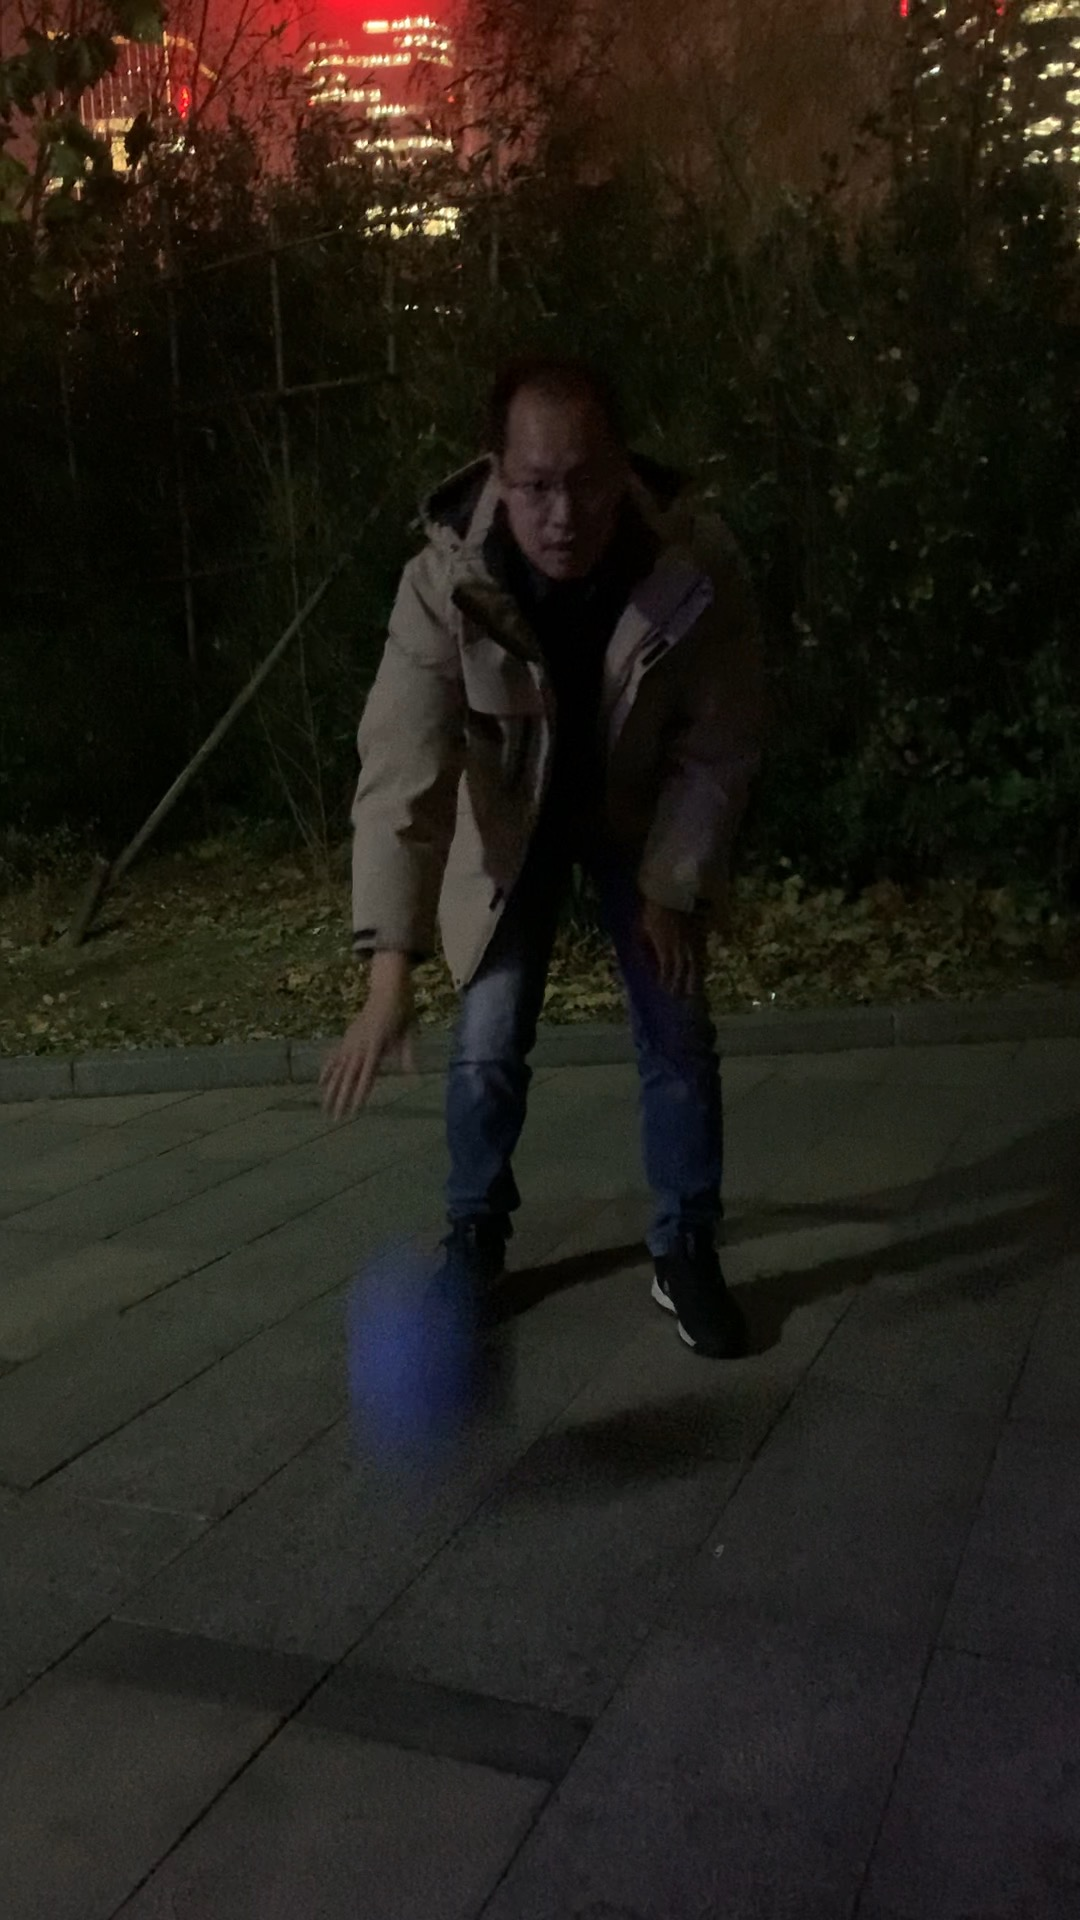ball: (344, 1284, 516, 1457)
